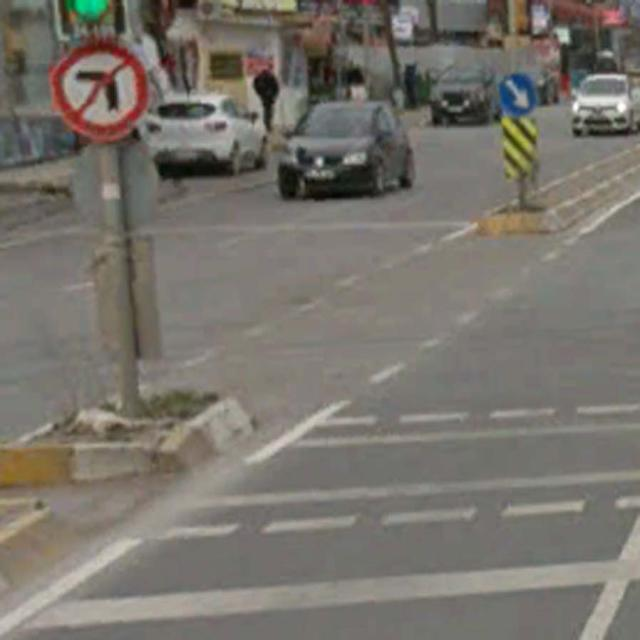soladonulmez: (50, 42, 150, 142)
